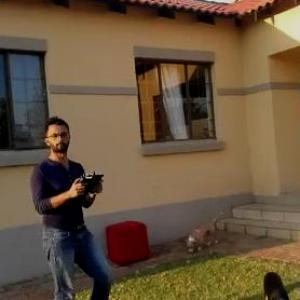follow: (28, 108, 119, 299)
null: (183, 209, 229, 258), (261, 265, 295, 299)
